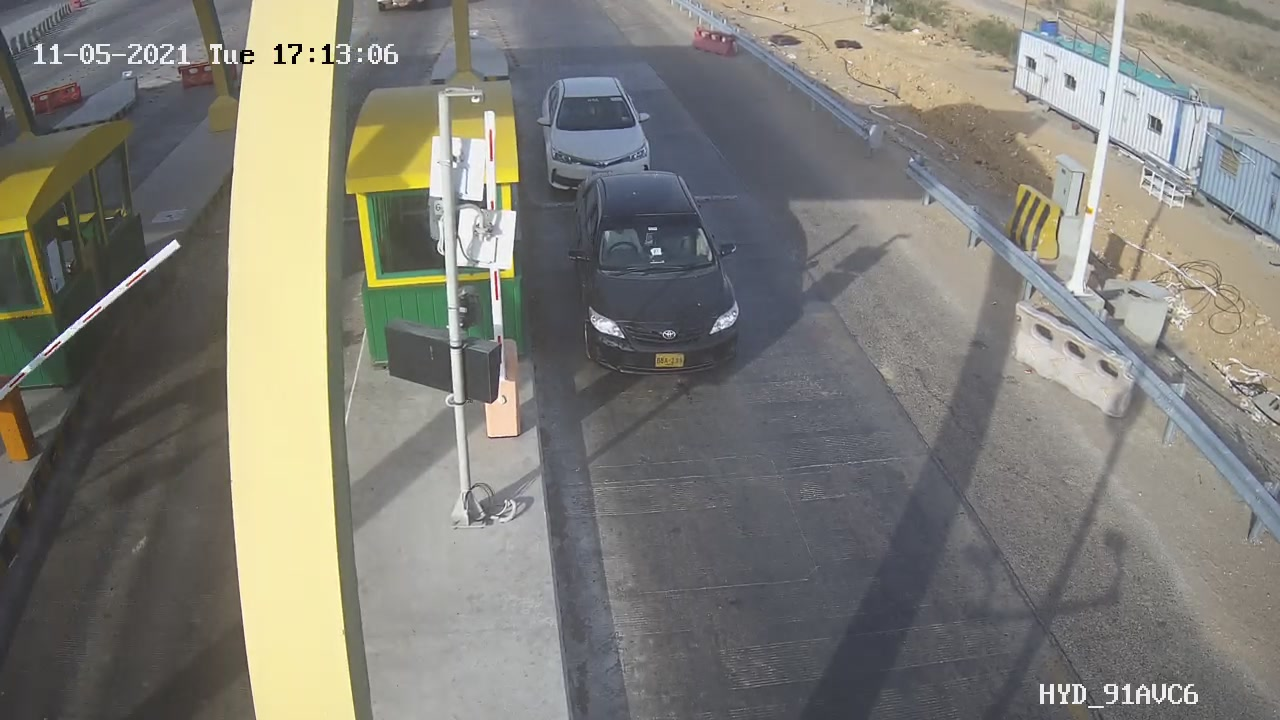F1: (559, 162, 764, 390), (524, 60, 672, 208)
